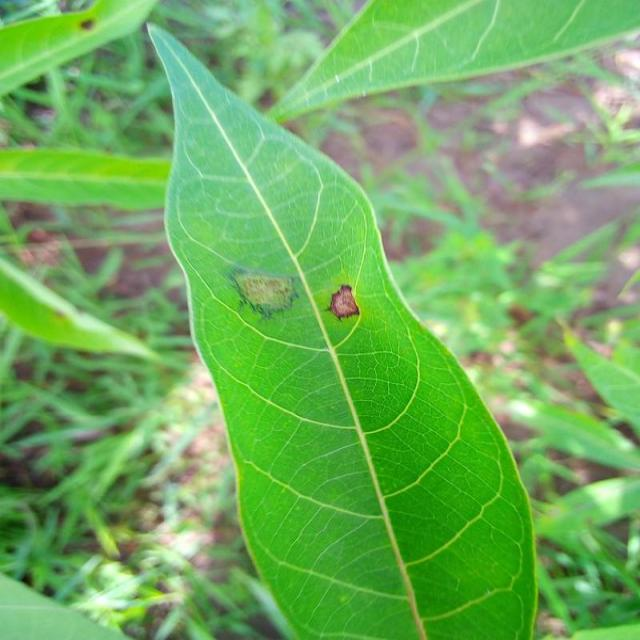cassava leaf: (145, 19, 539, 638)
